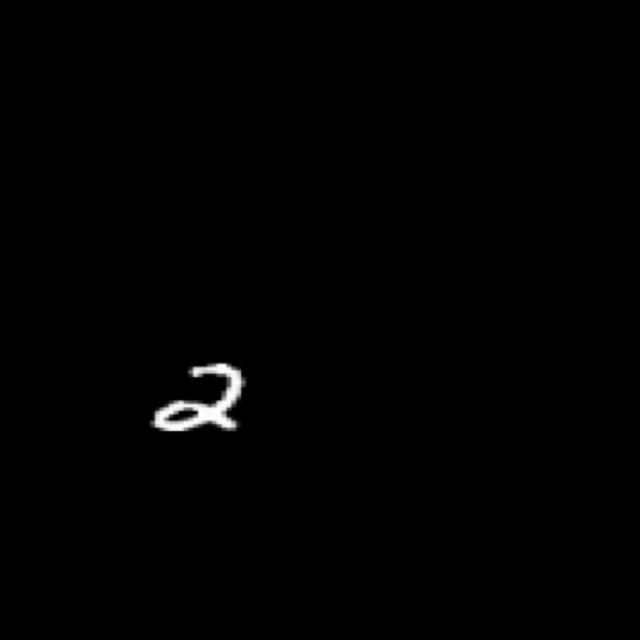two -2-: (142, 350, 270, 444)
